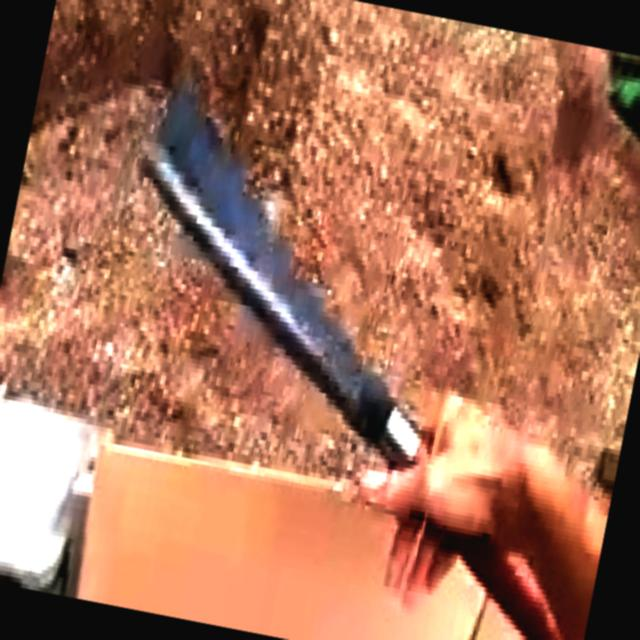eto: (142, 73, 570, 640)
